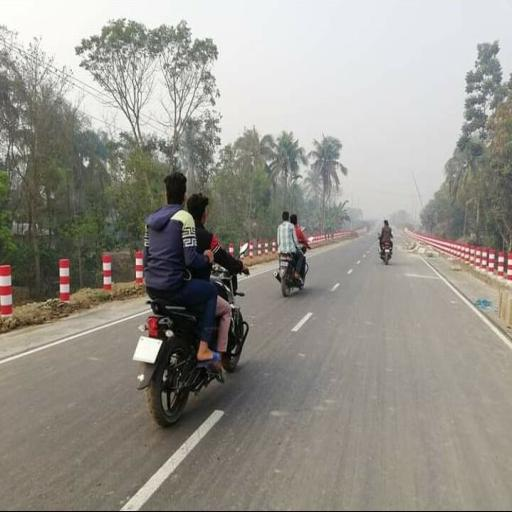overloading: (131, 240, 252, 428)
